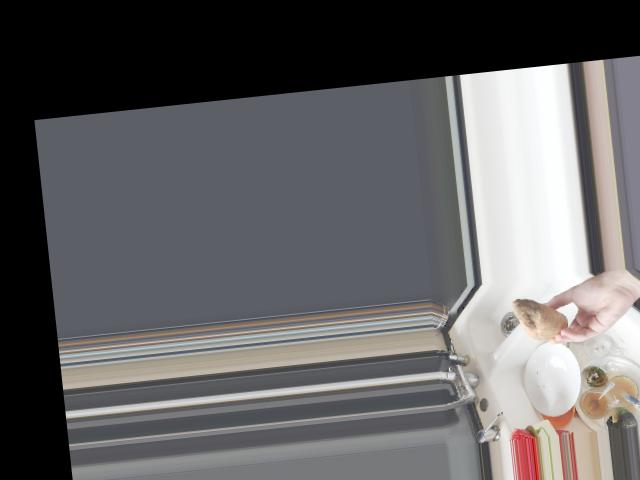sweet_potato: (510, 289, 569, 345)
